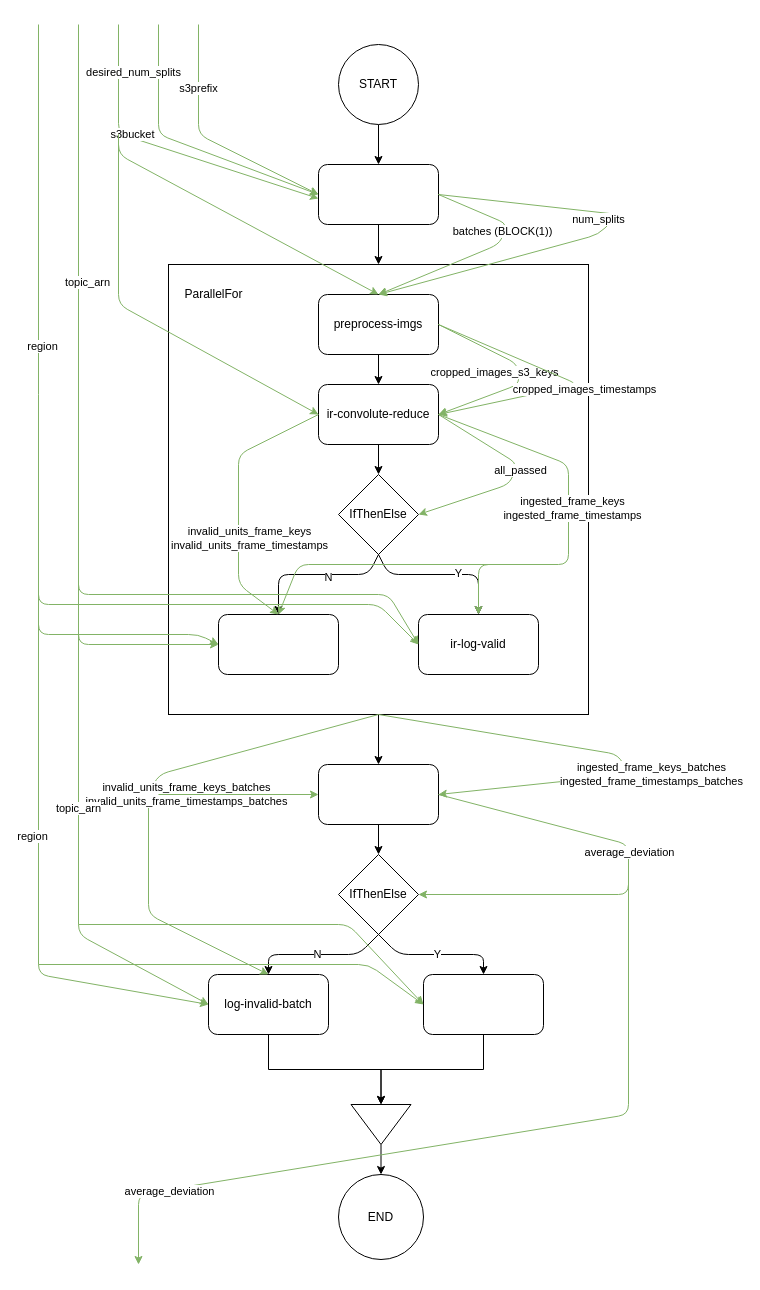
The diagram is 760 pixels wide and 1290 high, and some of its shapes have lost their labels. The centre of each missing label's shape, as x and y in pixels:
"ir-log-invalid" belongs at (x=278, y=644).
"ir-reduce" belongs at (x=378, y=794).
"ir-split" belongs at (x=378, y=194).
"log-valid-batch" belongs at (x=483, y=1004).
